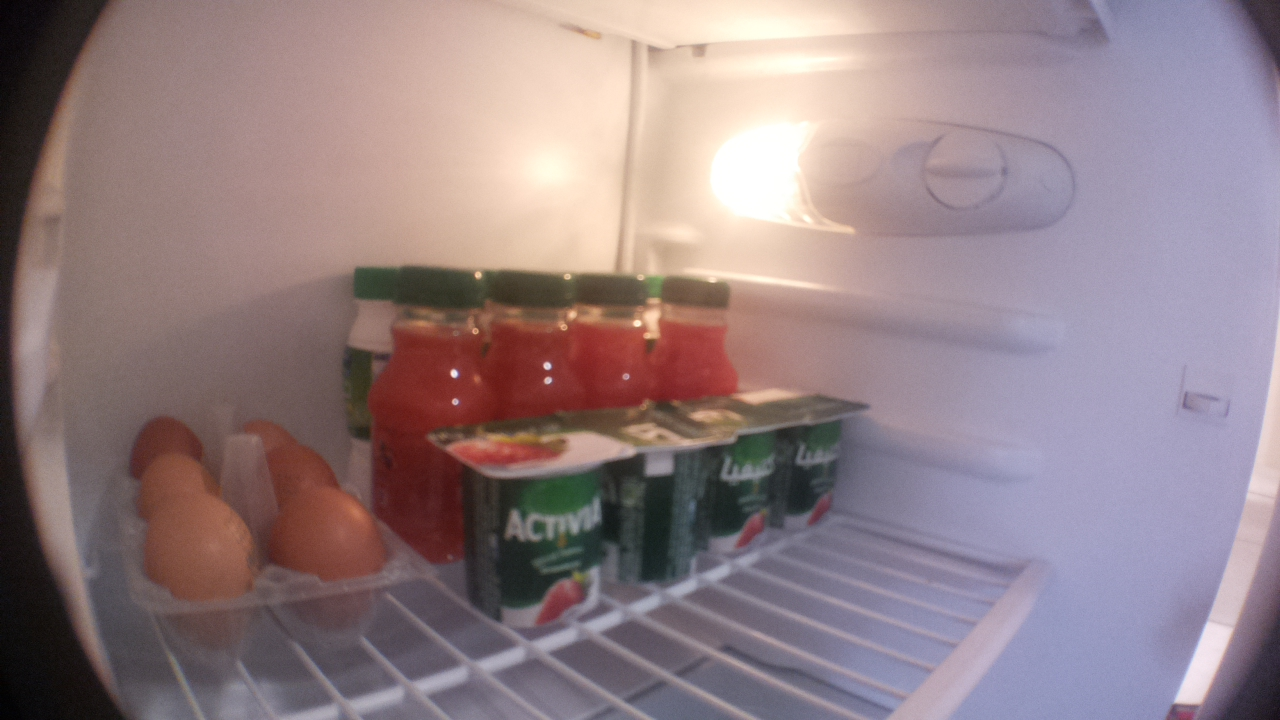egg: (116, 490, 261, 630), (260, 487, 403, 596), (135, 450, 227, 498), (258, 446, 341, 496), (128, 407, 206, 454), (229, 411, 308, 452)
juice: (369, 271, 483, 570), (479, 268, 583, 417), (570, 273, 658, 414), (653, 274, 747, 402)
laban: (331, 265, 398, 506)
yoghurt: (429, 412, 633, 632), (612, 421, 742, 595), (693, 401, 799, 560), (759, 380, 869, 532)
